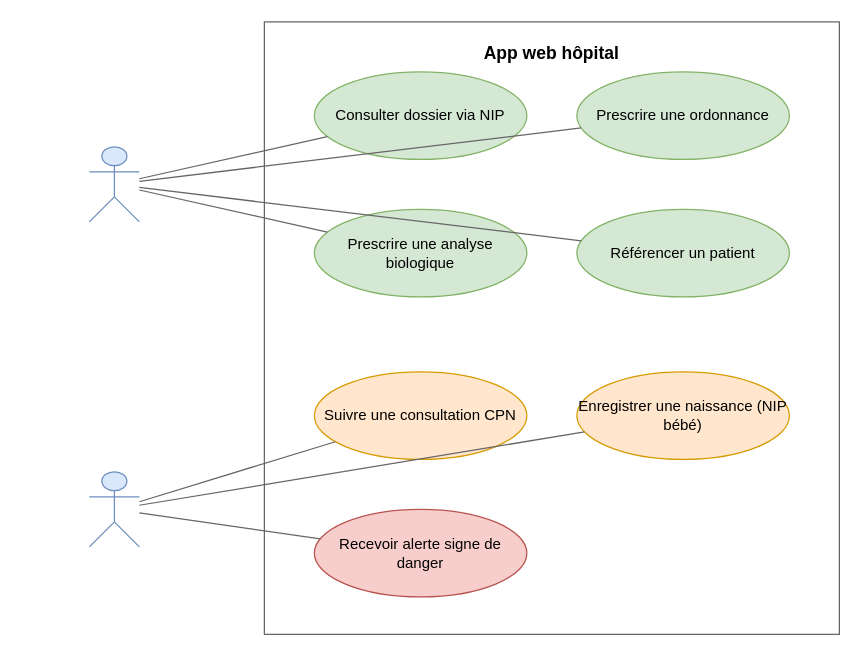
This 861x656 diagram has some shape labels left out. Each missing label, with the centre of its shape:
"Médecin" goes at (113,184).
"Sage-femme / Gynécologue" goes at (113,509).
